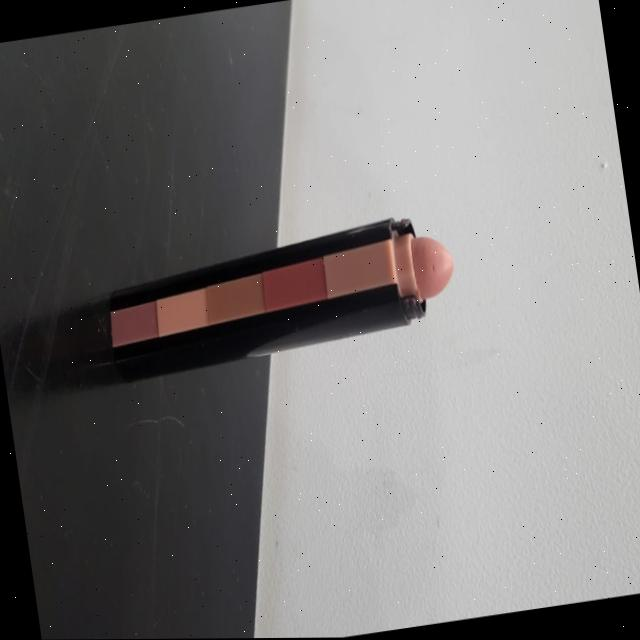lip stick: (70, 177, 474, 459)
